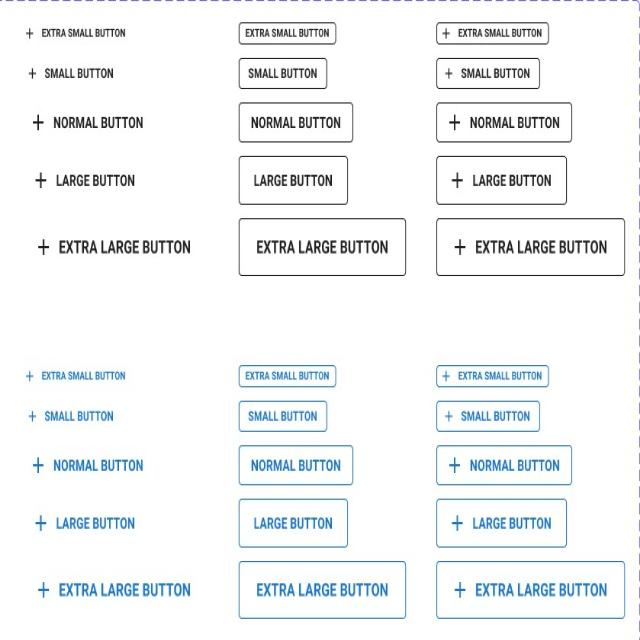QLabel: (471, 580, 613, 598), (471, 238, 610, 256), (252, 580, 394, 597), (251, 238, 392, 255), (58, 580, 192, 597), (55, 239, 190, 254), (247, 457, 343, 472), (468, 457, 561, 472), (250, 514, 337, 530), (468, 514, 554, 530), (247, 115, 342, 129), (50, 457, 142, 471), (470, 172, 553, 187), (243, 368, 331, 382), (466, 115, 560, 128), (40, 26, 126, 40), (250, 173, 336, 187), (50, 115, 142, 128), (52, 173, 137, 187), (54, 515, 137, 529), (455, 26, 543, 39), (244, 66, 322, 80), (245, 408, 322, 422), (243, 26, 332, 38), (456, 369, 544, 381), (39, 369, 127, 381), (458, 408, 532, 422), (458, 66, 533, 79), (42, 67, 117, 79), (42, 409, 116, 421)
VBtn: (435, 558, 626, 622), (435, 217, 626, 278), (237, 559, 407, 621), (238, 216, 407, 278), (16, 227, 208, 274), (19, 570, 215, 616), (435, 153, 569, 207), (435, 496, 569, 550), (435, 100, 574, 144), (434, 443, 573, 487), (238, 496, 350, 550), (18, 447, 171, 486), (238, 154, 350, 206), (17, 162, 165, 199), (18, 506, 171, 540), (237, 443, 354, 487), (238, 100, 354, 144), (18, 104, 152, 140), (435, 55, 541, 91), (435, 398, 541, 434), (17, 18, 133, 47), (19, 401, 136, 429), (237, 398, 328, 434), (238, 56, 328, 91), (17, 59, 132, 86), (435, 363, 550, 389), (436, 20, 550, 46), (19, 364, 135, 388), (238, 20, 337, 47), (238, 363, 337, 390)
VIcon: (35, 170, 47, 190), (448, 114, 461, 131), (32, 114, 44, 130), (451, 172, 463, 188), (451, 514, 463, 530), (454, 581, 466, 597), (32, 457, 44, 472), (39, 581, 50, 597), (38, 238, 49, 254), (454, 240, 466, 254), (35, 515, 46, 530), (449, 457, 460, 472), (25, 26, 33, 40), (26, 369, 34, 382), (28, 68, 36, 79), (28, 411, 36, 422), (442, 28, 450, 39), (445, 410, 453, 421), (444, 68, 452, 78), (442, 370, 449, 381)
